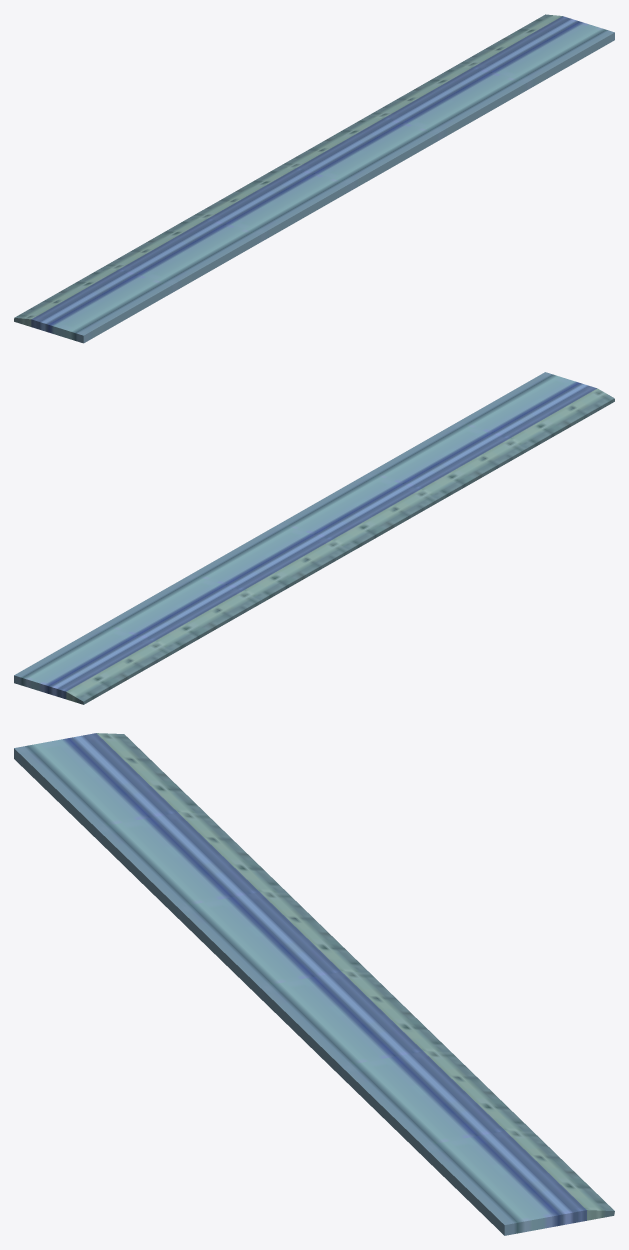
3 renders of one model, top to bottom at view 1: azimuth 30°, elevation 25°; view 2: azimuth 210°, elevation 25°; view 3: azimuth 270°, elevation 25°, orthographic. The views are drawn at different scales.
Parts seen in each view (by area): view 1: Joint_0_Object_0; view 2: Joint_0_Object_0; view 3: Joint_0_Object_0.
Part boxes in pixels (x1=…): Joint_0_Object_0: x1=14, y1=14, x2=614, y2=343; Joint_0_Object_0: x1=14, y1=372, x2=614, y2=704; Joint_0_Object_0: x1=14, y1=733, x2=614, y2=1235.
Size of the model in its own units: 539 by 5.42 by 275.
Materials: 1 (1 with a texture image).
